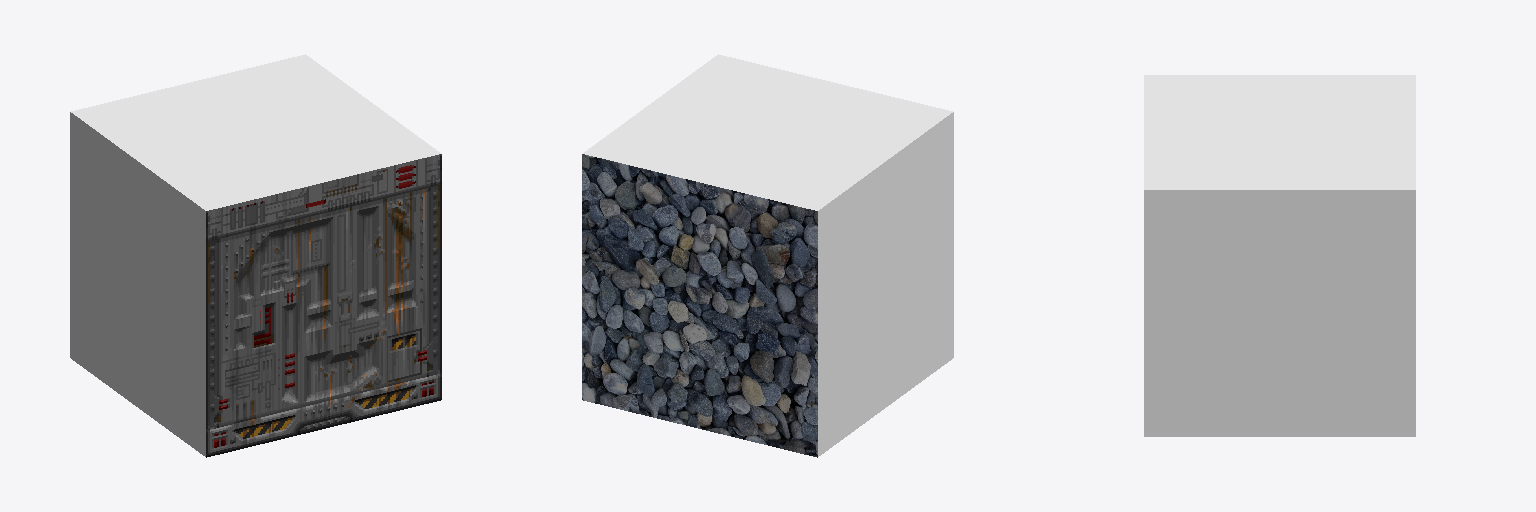
The picture shows the model from 3 angles: view 1: azimuth 30°, elevation 25°; view 2: azimuth 150°, elevation 25°; view 3: azimuth 270°, elevation 25°; orthographic projection.
Bounding box in the file's own units: 1 × 1 × 1.
6 materials, 3 textured.